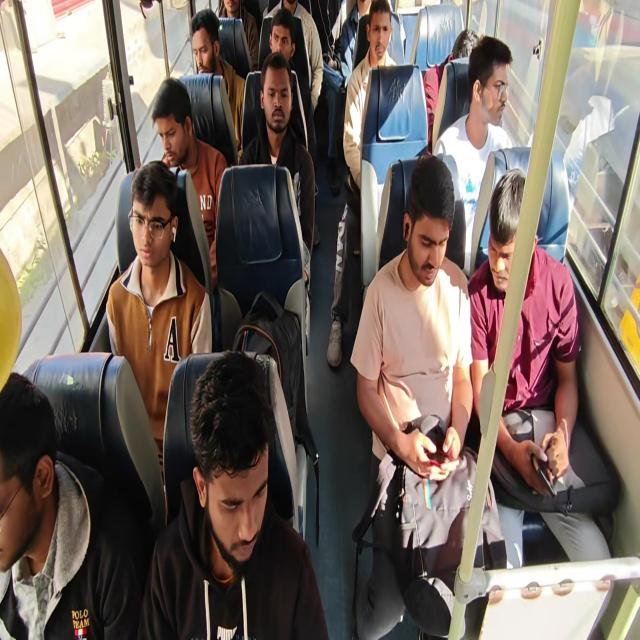person: (350, 153, 506, 638), (467, 167, 614, 568), (137, 349, 329, 639), (0, 371, 140, 638), (106, 159, 212, 483), (327, 0, 398, 368), (239, 52, 316, 354), (432, 34, 514, 277), (150, 77, 228, 289), (265, 3, 323, 246), (190, 8, 246, 156), (423, 29, 480, 150), (266, 0, 324, 114), (338, 0, 373, 87), (217, 0, 259, 72)
